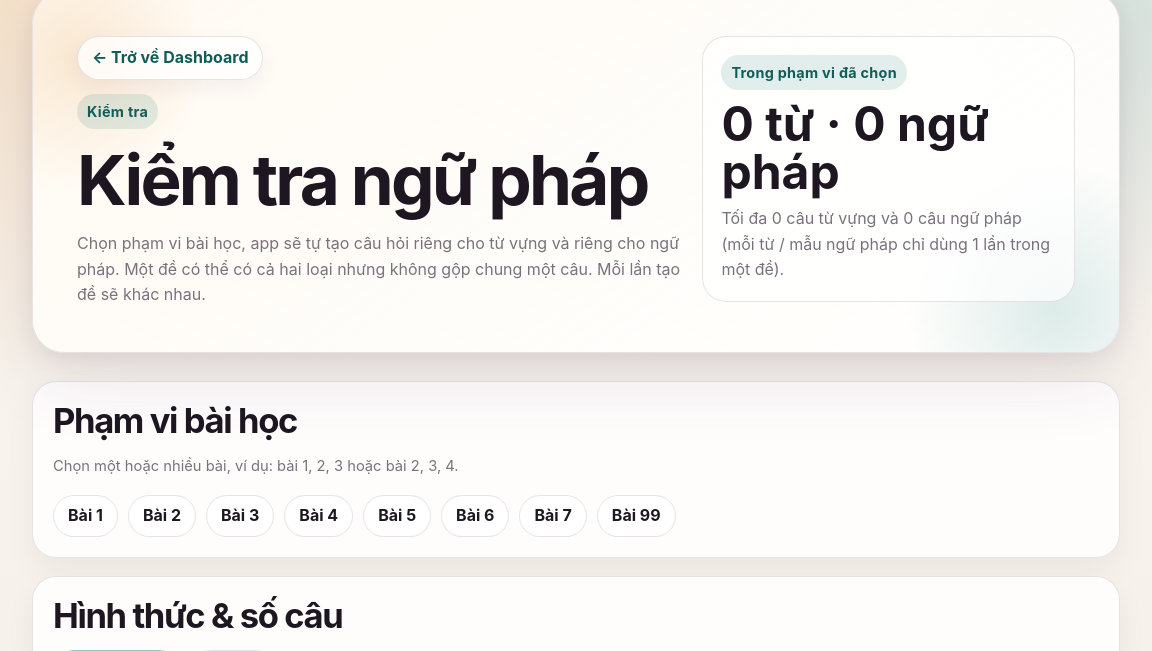
Test case: GrammarExamPage — làm đề trắc nghiệm › tạo đủ một câu từ vựng và một câu ngữ pháp, mỗi câu ghi rõ loại
Step 1. Click the button "Bài 99" → (636, 516), box [597,495,676,537]
(page scrolled)
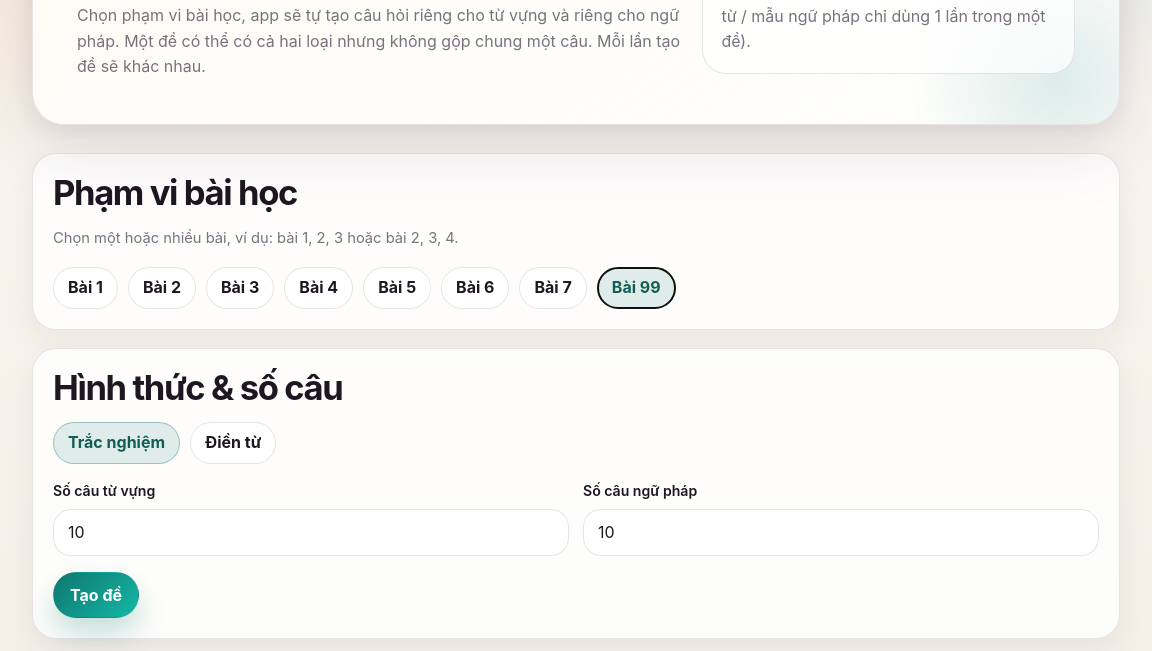
Step 2. Click the button "Tạo đề" → (96, 595), box [53,572,139,618]
(page scrolled)
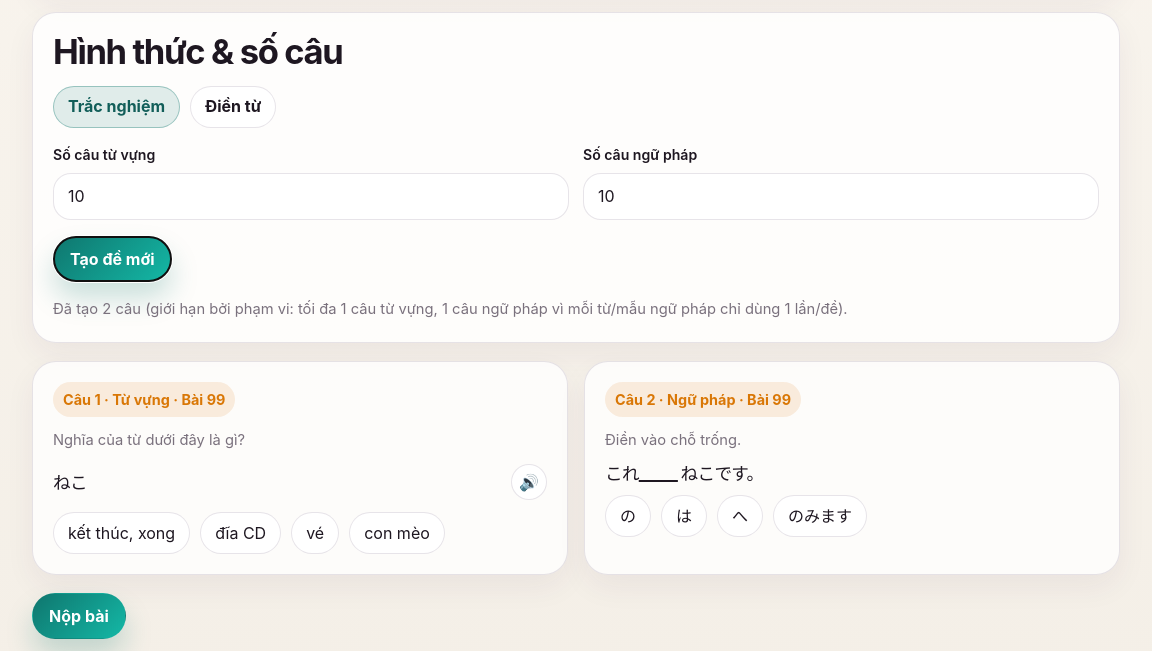
Now the text "Câu 1 · Từ vựng · Bài 99" is shown, box [53,382,235,417]
Now the text "Câu 2 · Ngữ pháp · Bài 99" is shown, box [605,382,801,417]
Now the heading "ねこ" is shown, box [53,473,87,492]
